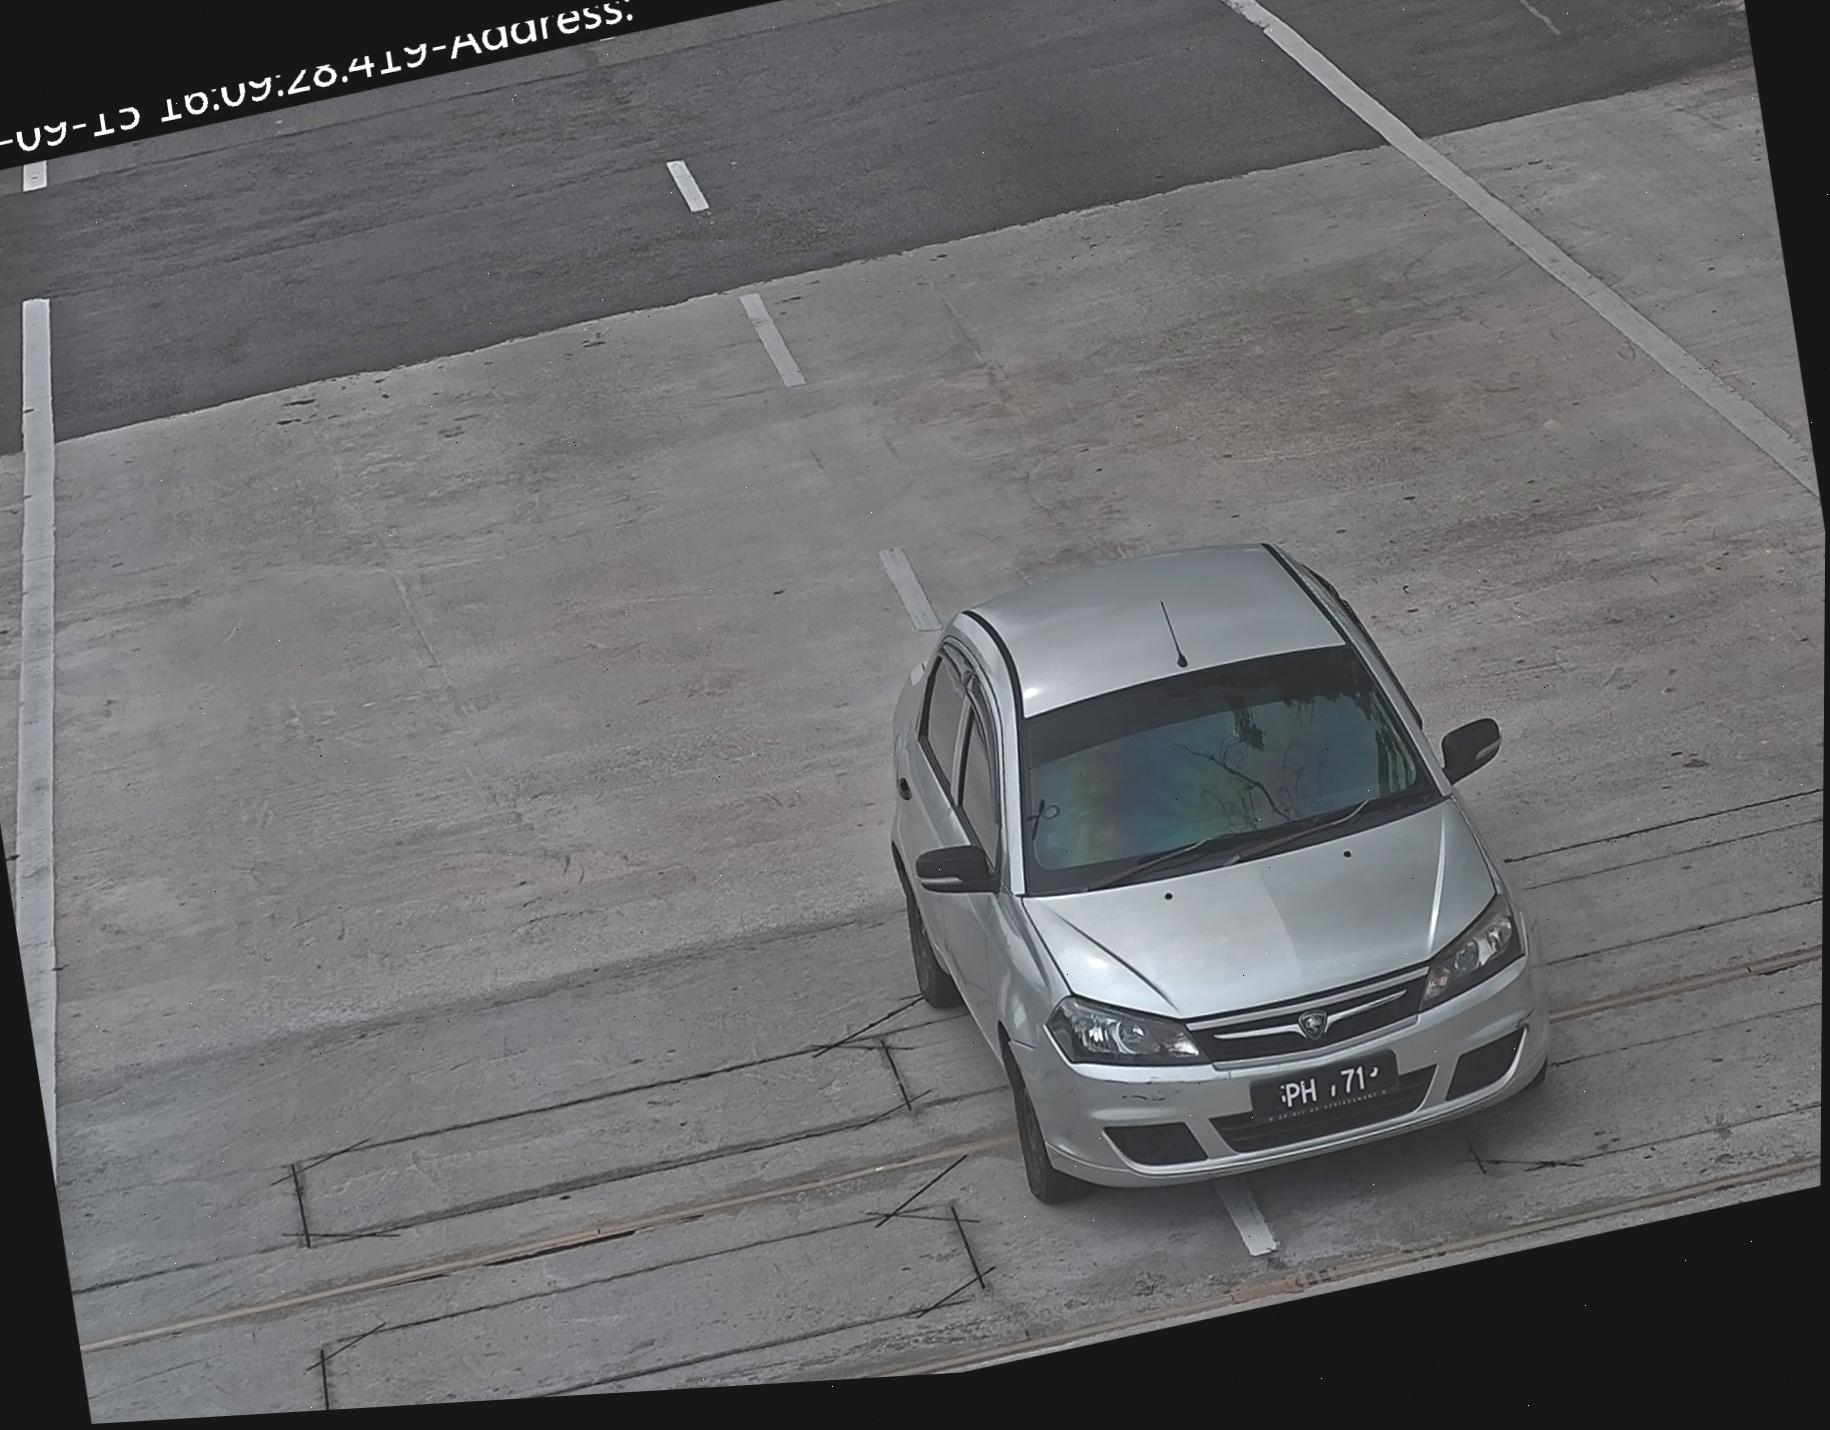broken: (1252, 1053, 1396, 1124)
